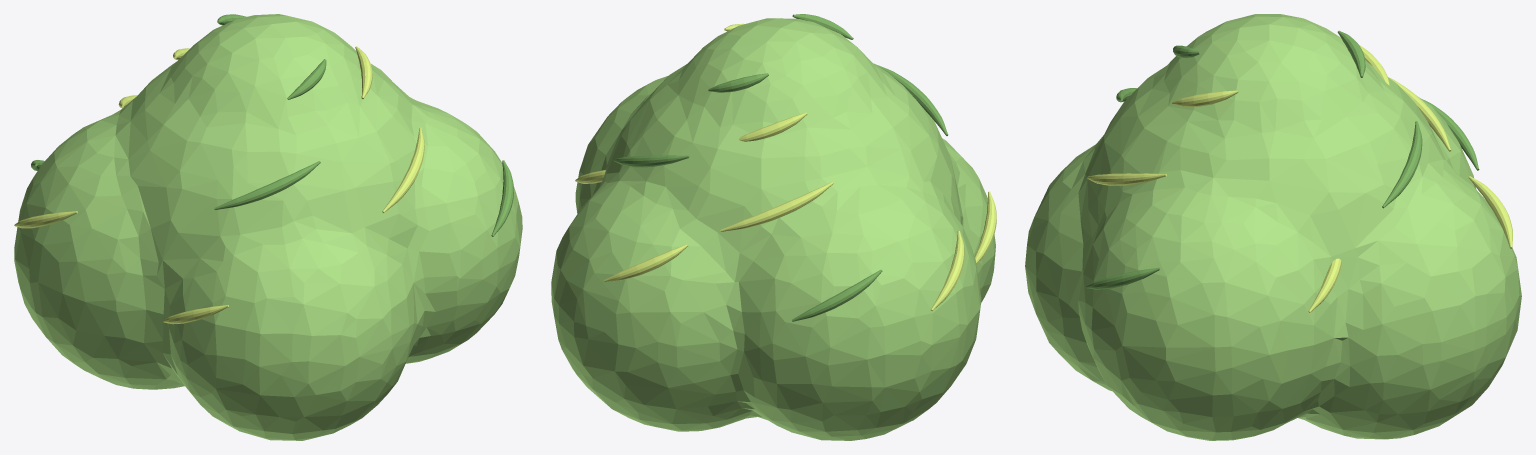
File: bush_01.glb
3 renders of one model, left to right at view 1: azimuth 30°, elevation 25°; view 2: azimuth 150°, elevation 25°; view 3: azimuth 270°, elevation 25°, orthographic. The views are drawn at different scales.
Visible parts, largest first — view 1: bush_mesh; view 2: bush_mesh; view 3: bush_mesh.
Part boxes in pixels (bbox=[...]): bush_mesh: bbox=[14, 14, 522, 440]; bush_mesh: bbox=[551, 14, 996, 440]; bush_mesh: bbox=[1025, 14, 1521, 440].
Size of what is drawn, in the model's own units: 1.23 by 1.01 by 1.19.
